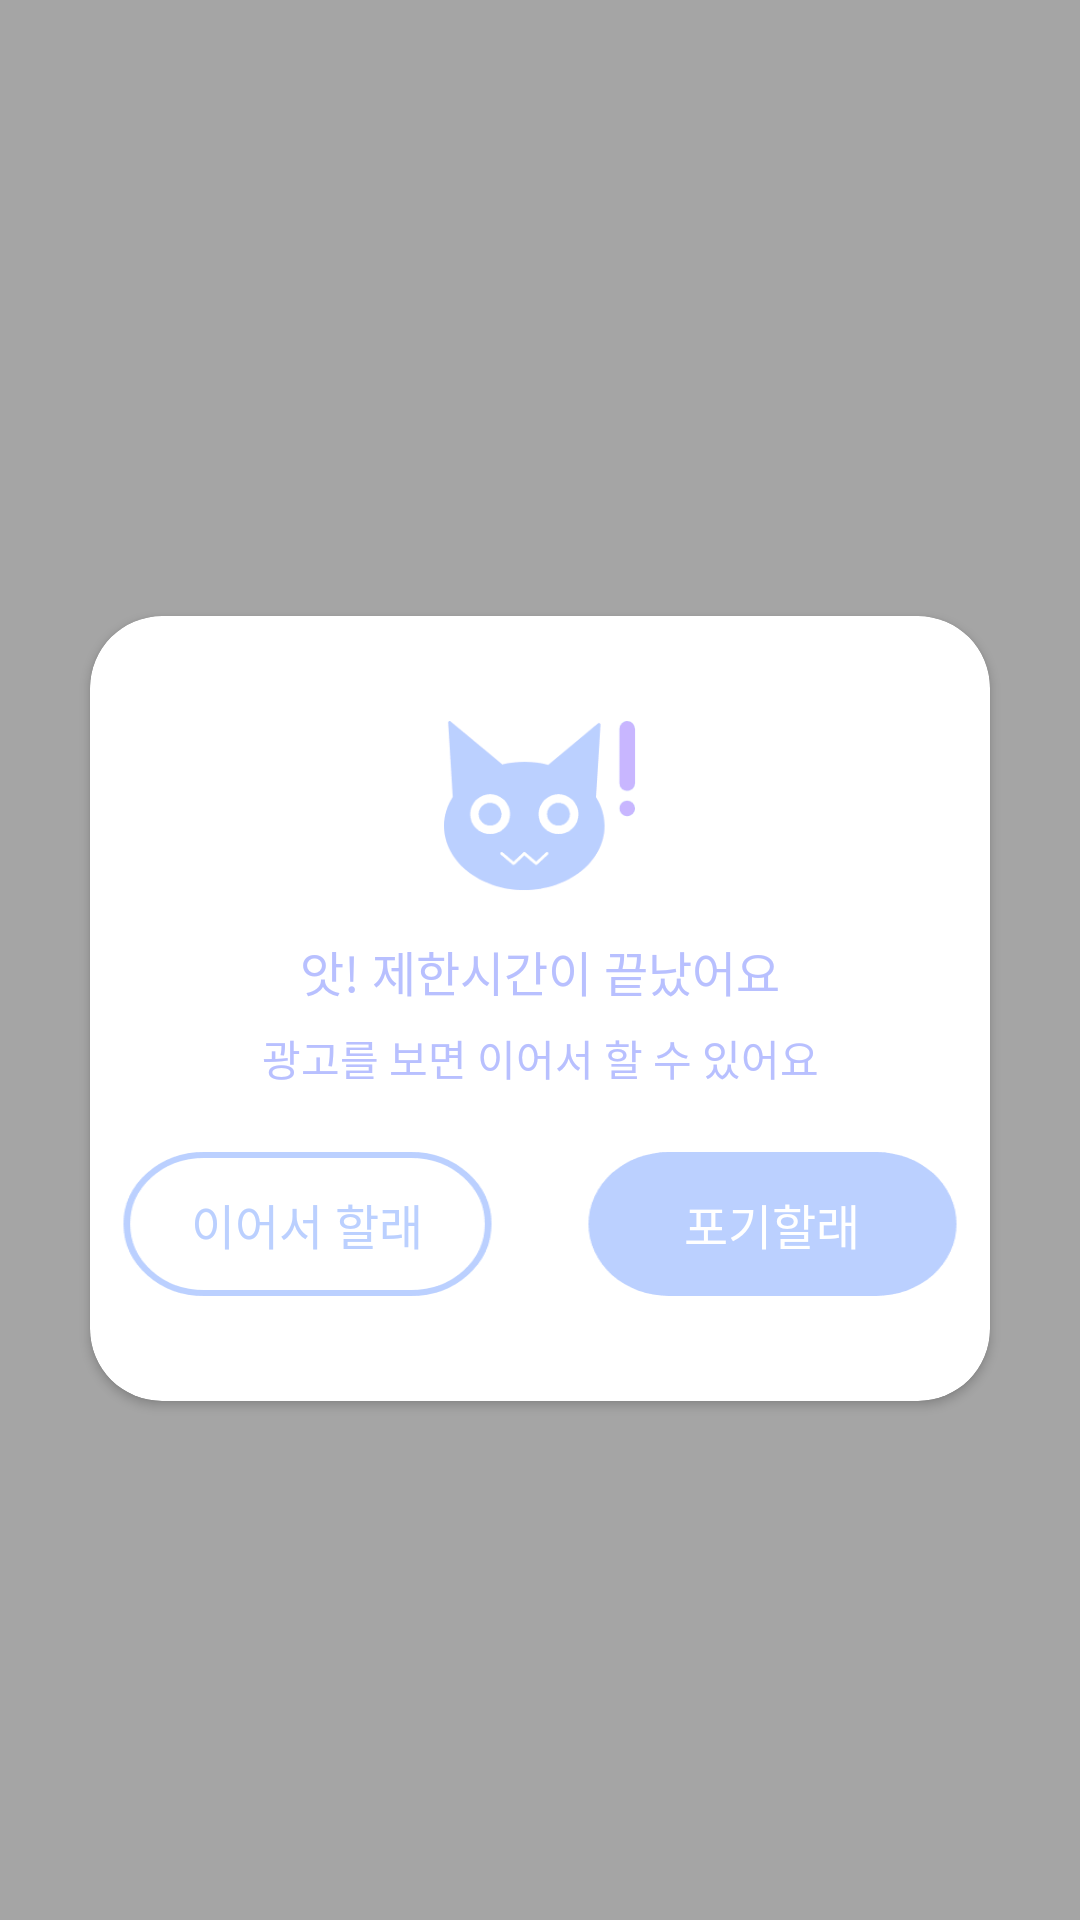

Icon bounding boxes for this 1080*1920 phone screenshot, format (x1, y1, x2, y2):
cat wow: (444, 721, 635, 890)
